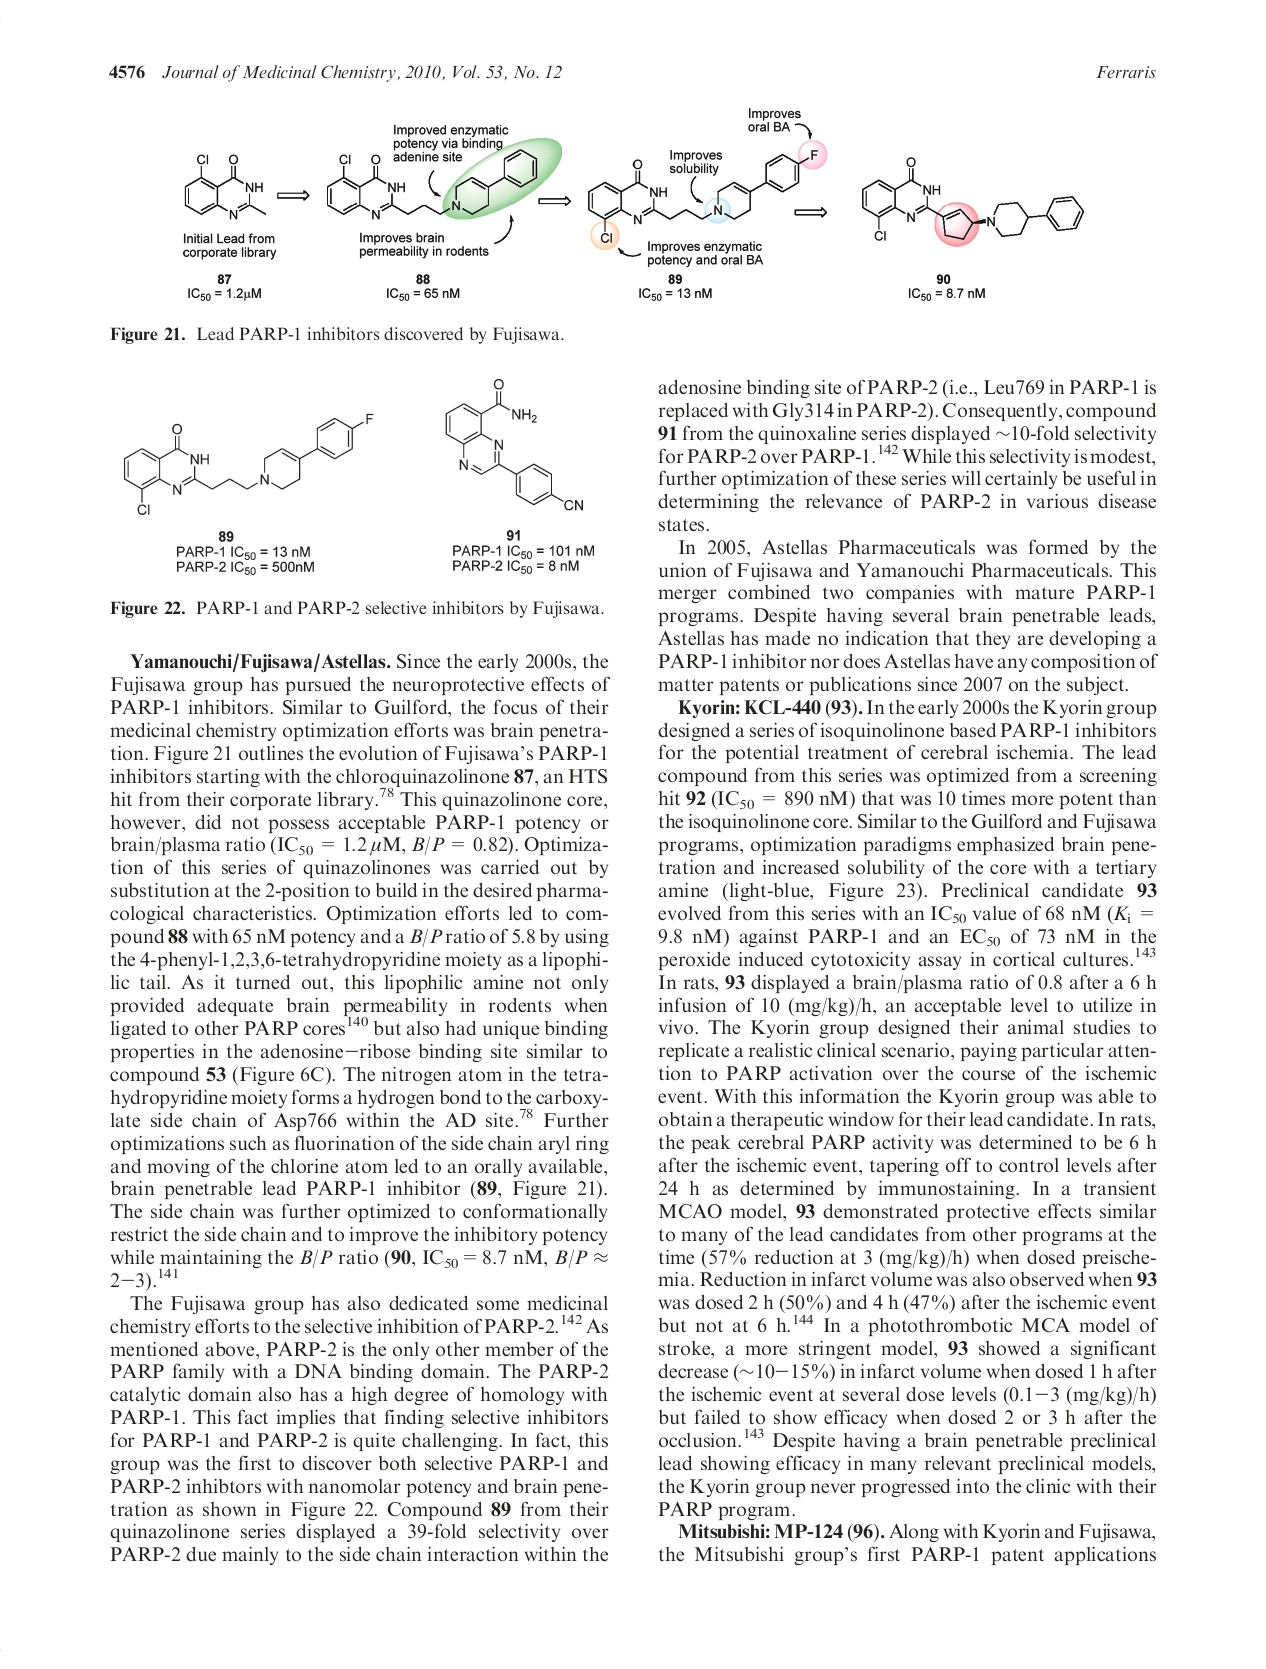exist_molecular: (118, 407, 376, 519), (582, 141, 823, 247), (860, 153, 1086, 262), (440, 376, 590, 520), (324, 148, 540, 226), (182, 146, 269, 223)
